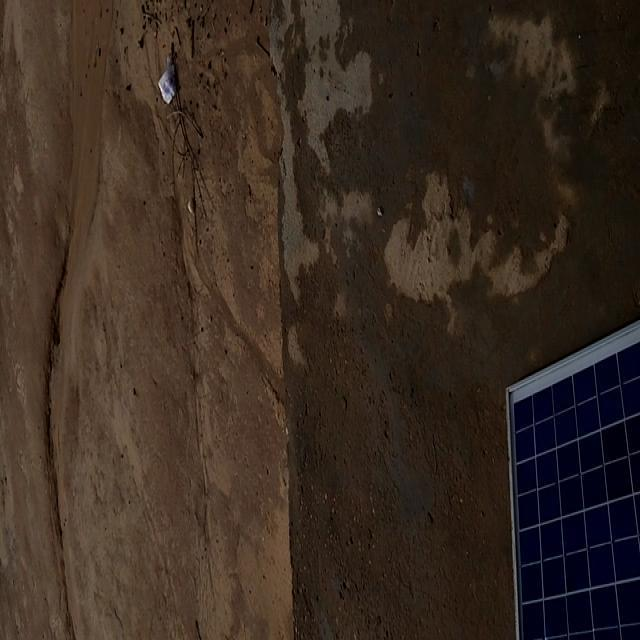Normal Solar Panel: (509, 322, 640, 640)
